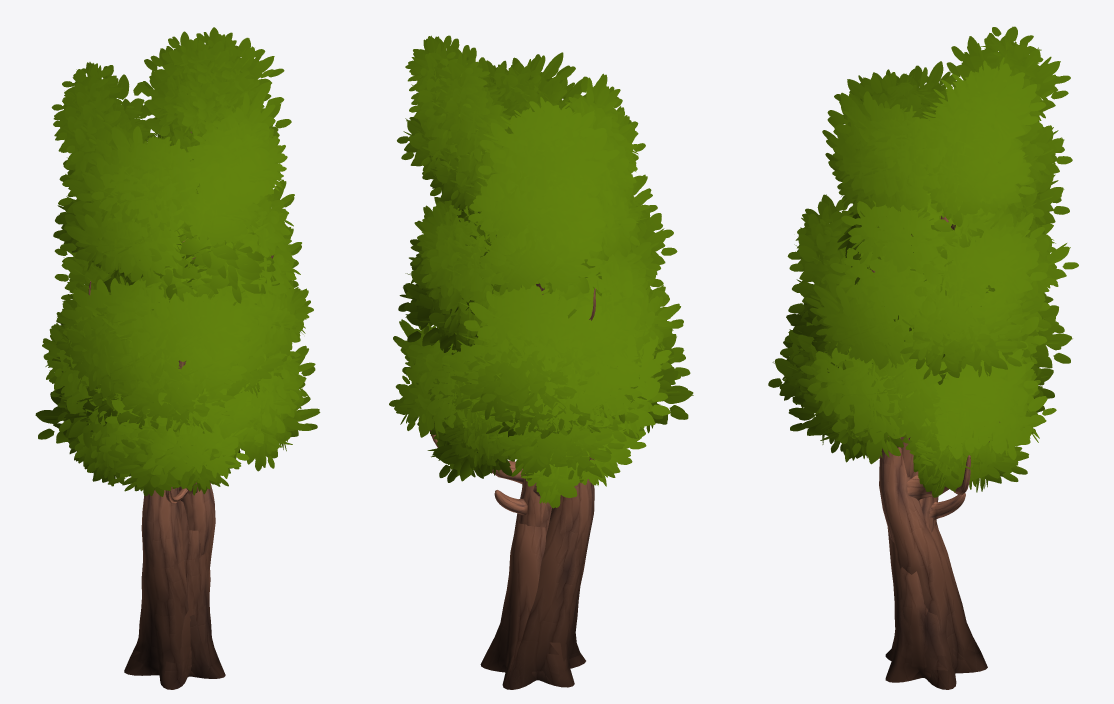
Rendered from trees_common.glb.
3 views of the same model, side by side, from view 1: azimuth 30°, elevation 25°; view 2: azimuth 150°, elevation 25°; view 3: azimuth 270°, elevation 25° (orthographic). The views are drawn at different scales.
Parts seen in each view (by area): view 1: CommonTree_3, CommonTree_4, CommonTree_1, CommonTree_2, CommonTree_5; view 2: CommonTree_3, CommonTree_4, CommonTree_2, CommonTree_1, CommonTree_5; view 3: CommonTree_2, CommonTree_4, CommonTree_3, CommonTree_1, CommonTree_5.
Boxes of the visible parts, bbox=[...] form: CommonTree_3: bbox=[51, 31, 313, 688]; CommonTree_4: bbox=[59, 27, 294, 687]; CommonTree_1: bbox=[35, 238, 320, 681]; CommonTree_2: bbox=[42, 186, 315, 689]; CommonTree_5: bbox=[53, 248, 291, 677]; CommonTree_3: bbox=[414, 45, 677, 687]; CommonTree_4: bbox=[397, 35, 645, 689]; CommonTree_2: bbox=[389, 201, 690, 689]; CommonTree_1: bbox=[405, 200, 693, 663]; CommonTree_5: bbox=[450, 215, 671, 685]; CommonTree_2: bbox=[768, 184, 1056, 689]; CommonTree_4: bbox=[822, 26, 1072, 689]; CommonTree_3: bbox=[784, 42, 1069, 687]; CommonTree_1: bbox=[779, 204, 1072, 679]; CommonTree_5: bbox=[807, 212, 1078, 681].
Size of the model in its own units: 4.46 by 9.44 by 4.65.
2 materials, 2 textured.
